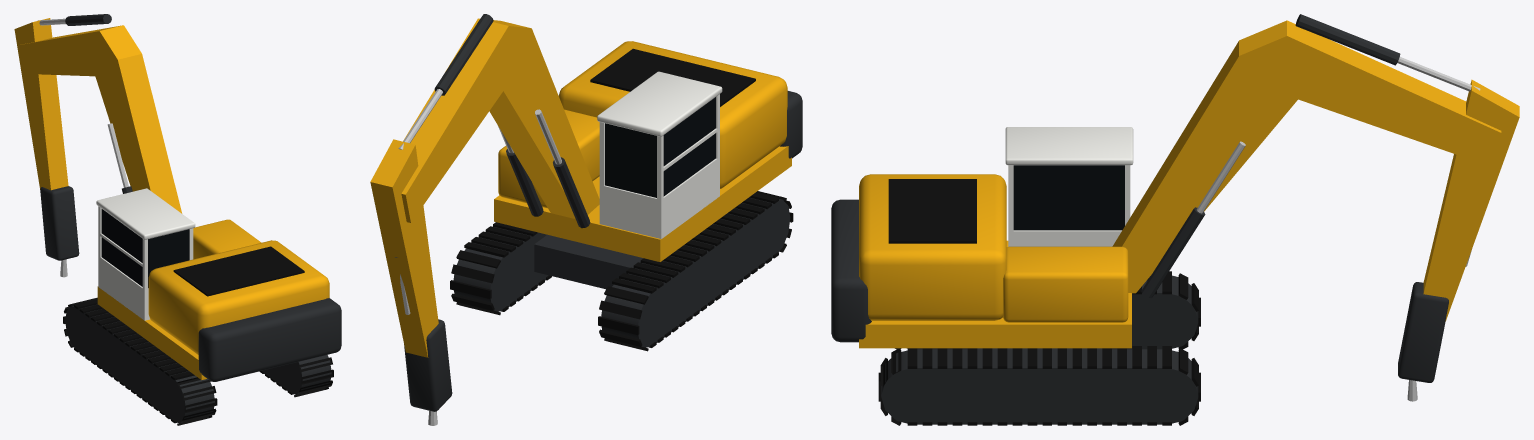
Rendered from plant.excavator.breaker.glb.
The picture shows the model from 3 angles, left to right: view 1: azimuth 30°, elevation 25°; view 2: azimuth 150°, elevation 25°; view 3: azimuth 270°, elevation 25°; orthographic projection. The views are drawn at different scales.
Parts seen in each view (by area): view 1: upper__plant_yellow, boom__plant_yellow, upper__steel_dark, tracks__steel_dark, upper__paint_white, stick__plant_yellow, tracks__plastic_black, upper__plastic_black, upper__glass_dark, bucket__steel_dark, boom__steel_stainless, boom__steel_dark; view 2: upper__plant_yellow, boom__plant_yellow, tracks__steel_dark, upper__paint_white, tracks__plastic_black, stick__plant_yellow, upper__glass_dark, upper__plastic_black, boom__steel_dark, bucket__steel_dark, boom__steel_stainless, upper__steel_dark; view 3: upper__plant_yellow, boom__plant_yellow, tracks__steel_dark, stick__plant_yellow, upper__paint_white, upper__glass_dark, tracks__plastic_black, upper__plastic_black, upper__steel_dark, bucket__steel_dark, boom__steel_dark, boom__steel_stainless.
Part boxes in pixels (x1,y1,x2,y2): upper__plant_yellow: [97, 219, 329, 379]; boom__plant_yellow: [18, 25, 182, 213]; upper__steel_dark: [198, 298, 341, 381]; tracks__steel_dark: [65, 304, 331, 423]; upper__paint_white: [96, 188, 195, 320]; stick__plant_yellow: [14, 18, 68, 190]; tracks__plastic_black: [63, 297, 333, 425]; upper__plastic_black: [173, 246, 304, 296]; upper__glass_dark: [101, 209, 189, 288]; bucket__steel_dark: [40, 186, 79, 260]; boom__steel_stainless: [37, 18, 128, 187]; boom__steel_dark: [65, 14, 132, 193]; upper__plant_yellow: [494, 41, 791, 261]; boom__plant_yellow: [401, 18, 599, 222]; tracks__steel_dark: [453, 197, 790, 347]; upper__paint_white: [597, 71, 722, 238]; tracks__plastic_black: [450, 191, 793, 351]; stick__plant_yellow: [370, 139, 438, 357]; upper__glass_dark: [605, 97, 715, 197]; upper__plastic_black: [590, 48, 755, 106]; boom__steel_dark: [434, 14, 590, 228]; bucket__steel_dark: [404, 319, 452, 411]; boom__steel_stainless: [398, 89, 561, 164]; upper__steel_dark: [780, 91, 802, 158]; upper__plant_yellow: [859, 174, 1131, 348]; boom__plant_yellow: [1112, 20, 1501, 293]; tracks__steel_dark: [881, 275, 1198, 424]; stick__plant_yellow: [1423, 79, 1519, 321]; upper__paint_white: [1005, 127, 1133, 246]; upper__glass_dark: [1013, 165, 1124, 230]; tracks__plastic_black: [878, 271, 1200, 425]; upper__plastic_black: [888, 179, 976, 243]; upper__steel_dark: [831, 199, 871, 342]; bucket__steel_dark: [1398, 282, 1448, 382]; boom__steel_dark: [1141, 14, 1400, 298]; boom__steel_stainless: [1196, 57, 1480, 213].
Size of the model in its own units: 3.05 by 5.75 by 9.33.
